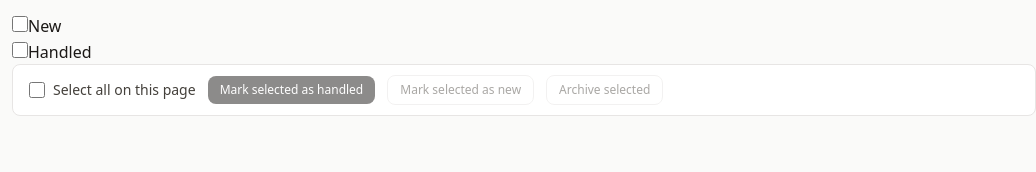
Test: BulkActionBar — successful actions refresh visible inquiries › refreshes the visible status to new and clears the completed selection
Click the 1st checkbox named "Select inquiry": (20, 24) x1=12 y1=16 x2=28 y2=32
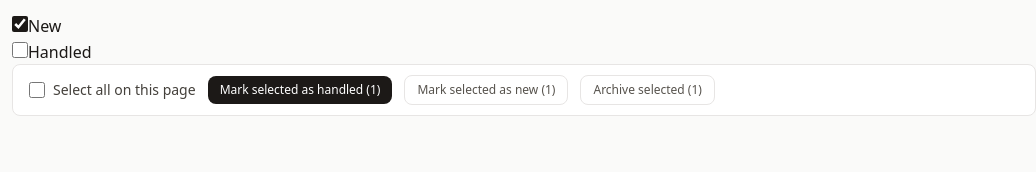
Click the button "Mark selected as new (1)": (486, 90) x1=404 y1=75 x2=568 y2=105
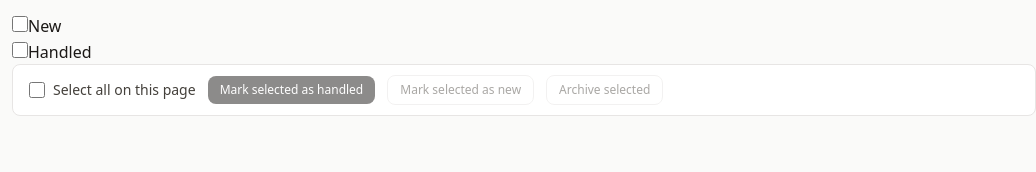
Check: the element with test id "visible-inq-1" reads "New", box x1=28 y1=15 x2=62 y2=37
Check: the 1st checkbox named "Select inquiry" is not checked, box x1=12 y1=16 x2=28 y2=32
Check: the button "Mark selected as new" is disabled, box x1=387 y1=75 x2=534 y2=105
